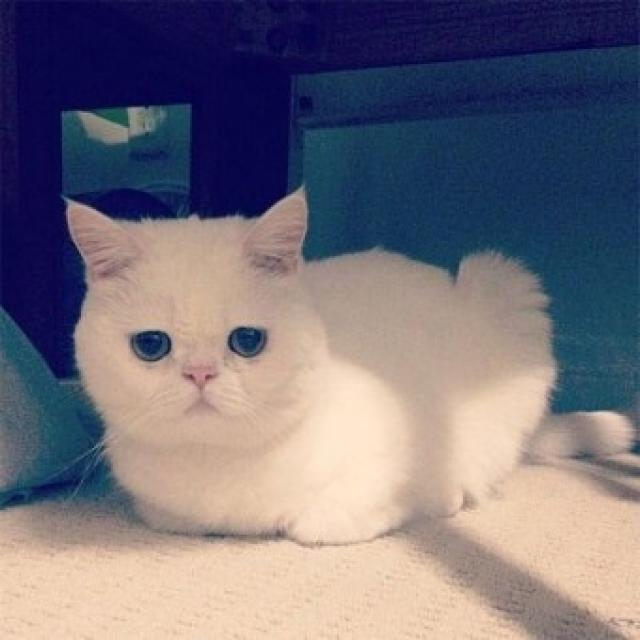cat: (56, 183, 640, 550)
